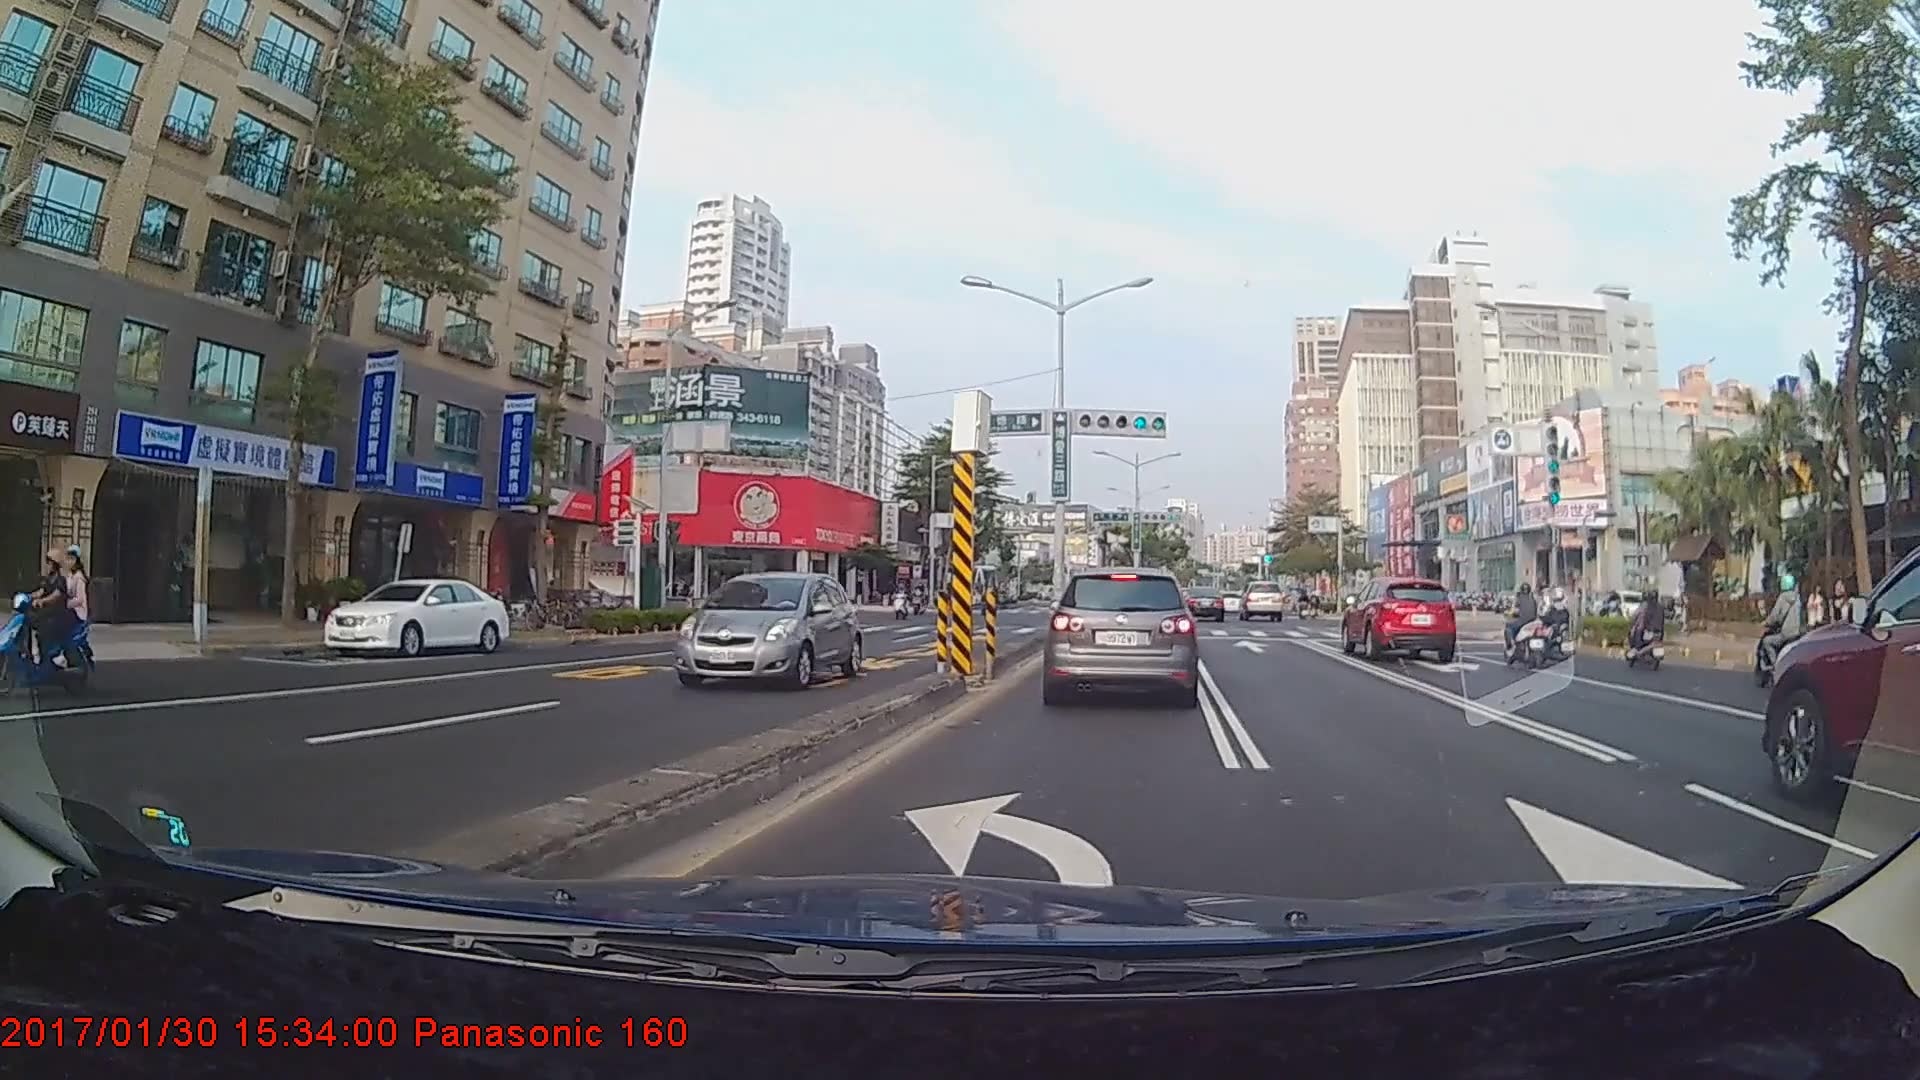pedestrian: (1782, 581, 1807, 651), (1806, 584, 1829, 650)
rider: (8, 543, 97, 695), (1496, 581, 1555, 669), (1616, 589, 1670, 671)
vehicle: (1759, 535, 1917, 841), (671, 571, 863, 691), (1044, 563, 1196, 705), (321, 576, 510, 657), (1339, 574, 1461, 663), (1238, 580, 1284, 622), (1181, 586, 1224, 622)
